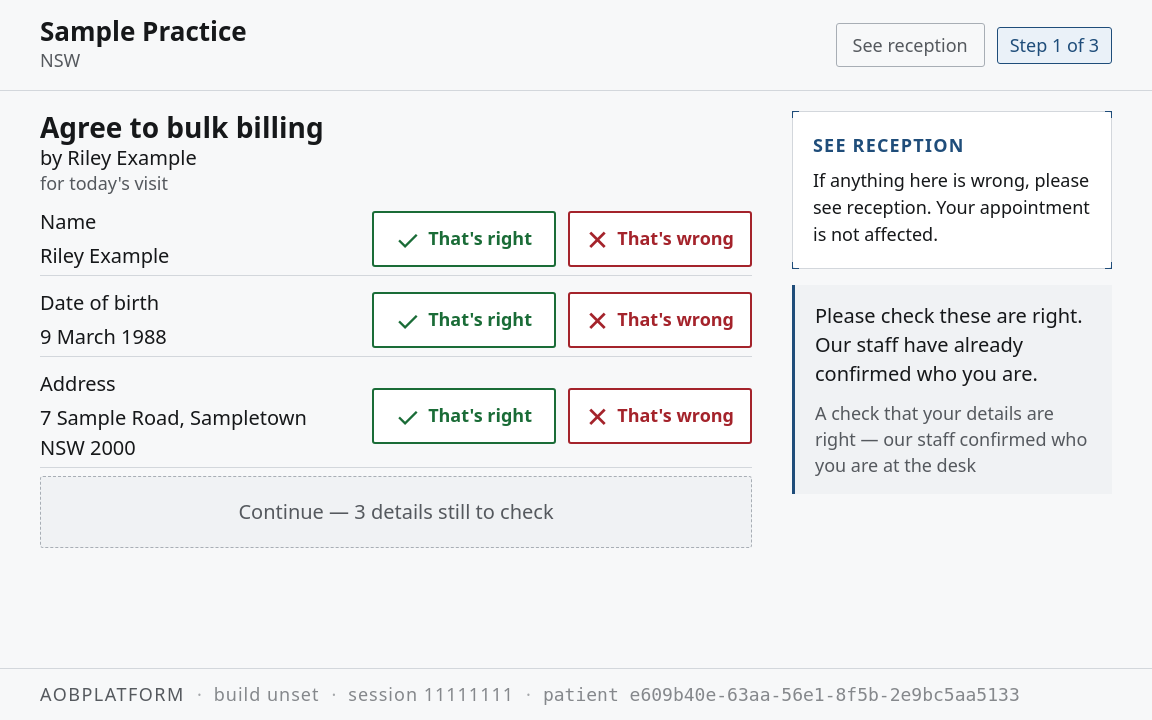
Test case: pushed_session_takes_over_idle › a row with no value is not drawn, and is not required
Expected: the heading "Agree to bulk billing" is shown, [40,108,324,146]
Click the button with test id "detail-tick-name".
click(464, 239)  # box [372,211,556,267]
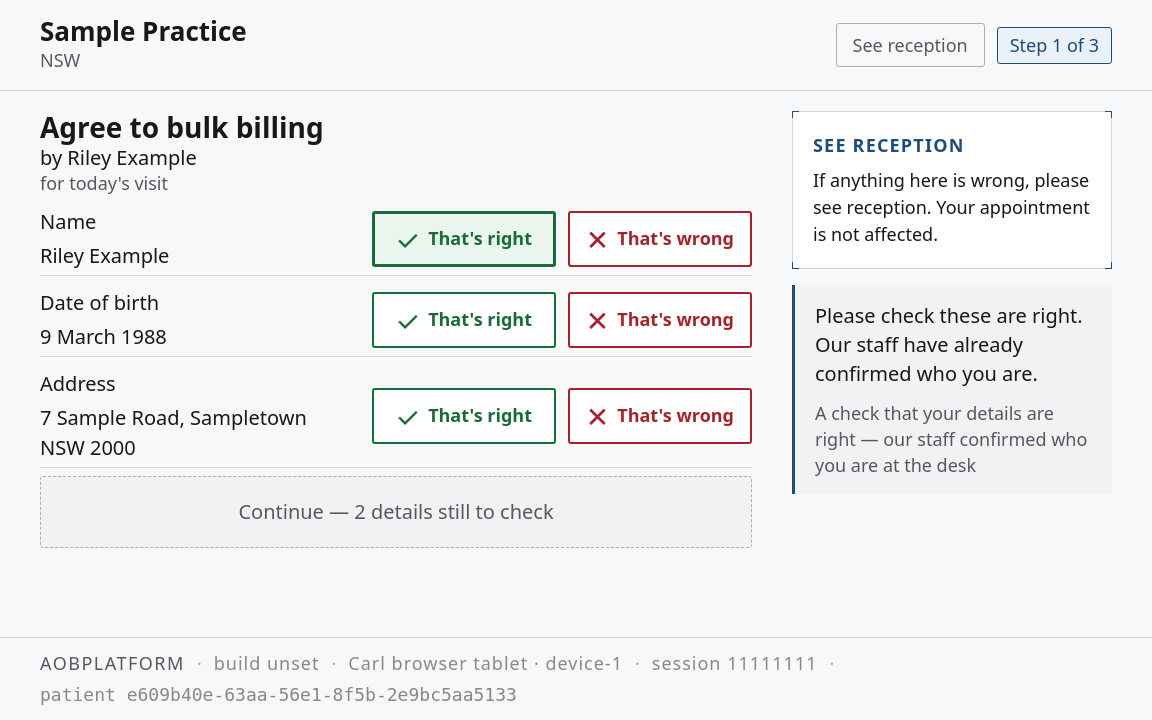
Click the button "✓ That's right" in the row of "9 March 1988".
click(464, 320)  # box [372,292,556,348]
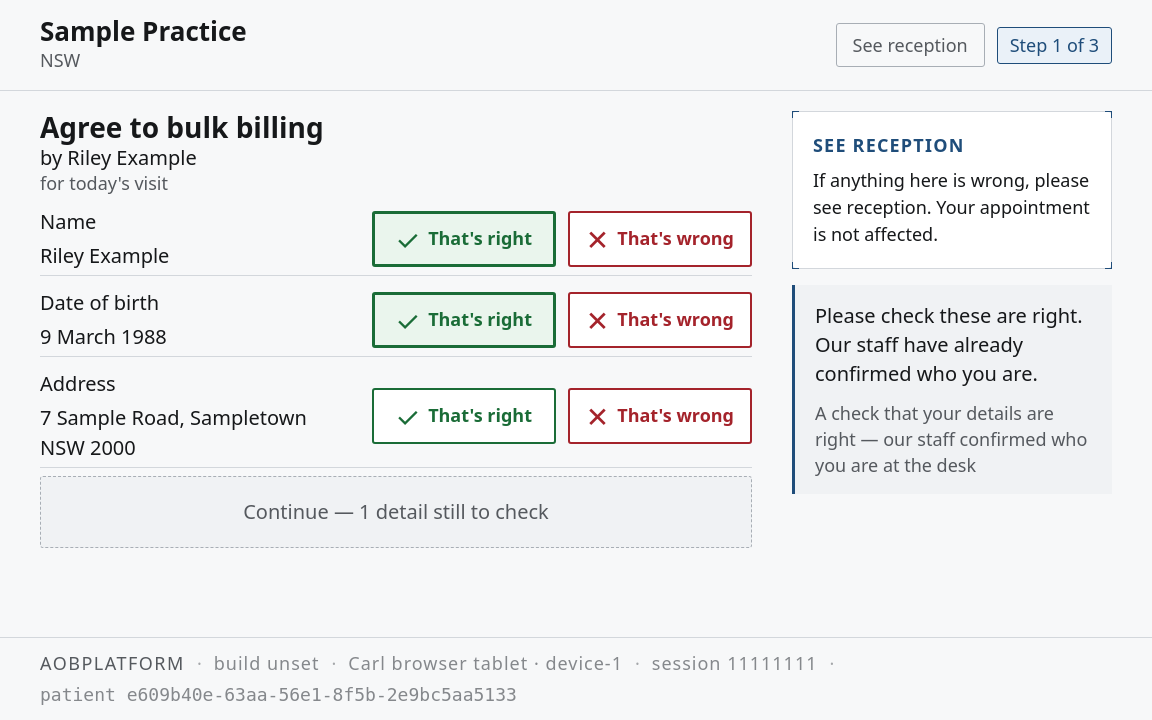
Click the button with test id "detail-tick-address".
click(464, 416)  # box [372,388,556,444]
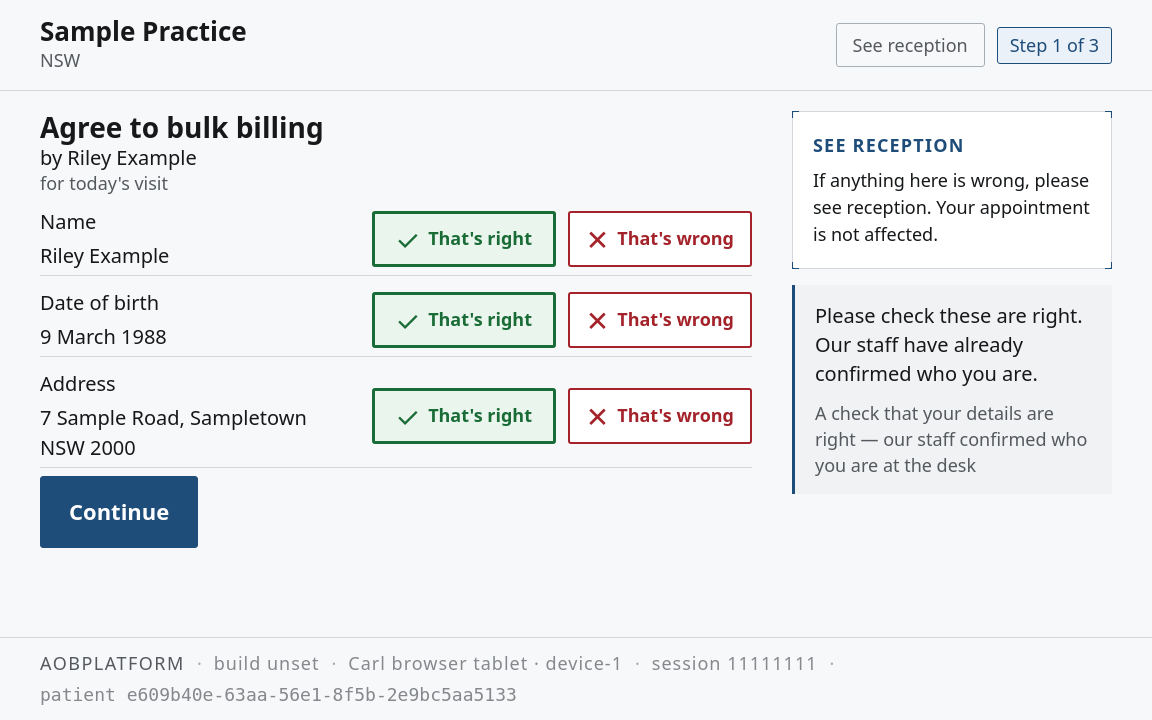
Result: the button with test id "check-details-continue" is enabled at [40,476,198,548]
